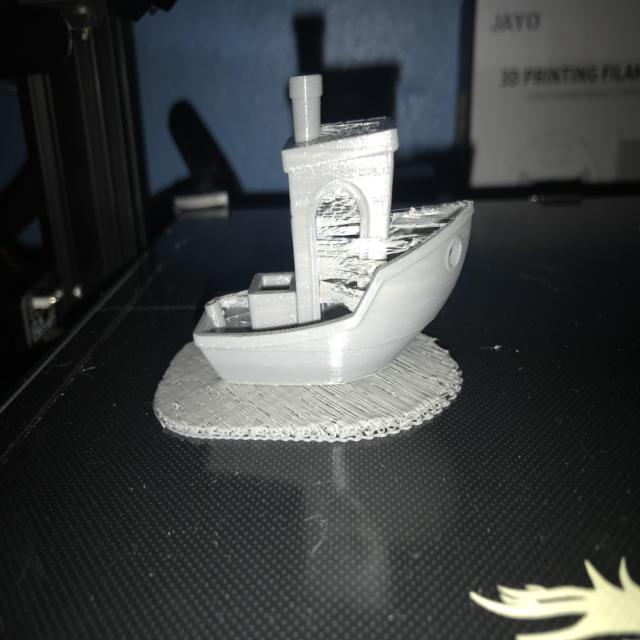Stringing: (306, 182, 368, 256), (381, 206, 444, 261)
